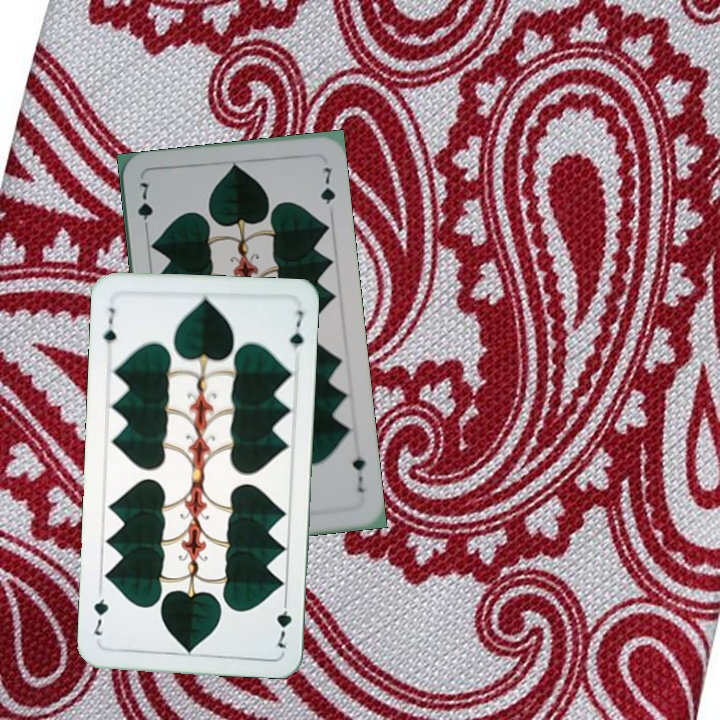G7: (133, 178, 156, 235), (273, 593, 295, 651), (348, 444, 368, 495), (100, 304, 119, 355)
